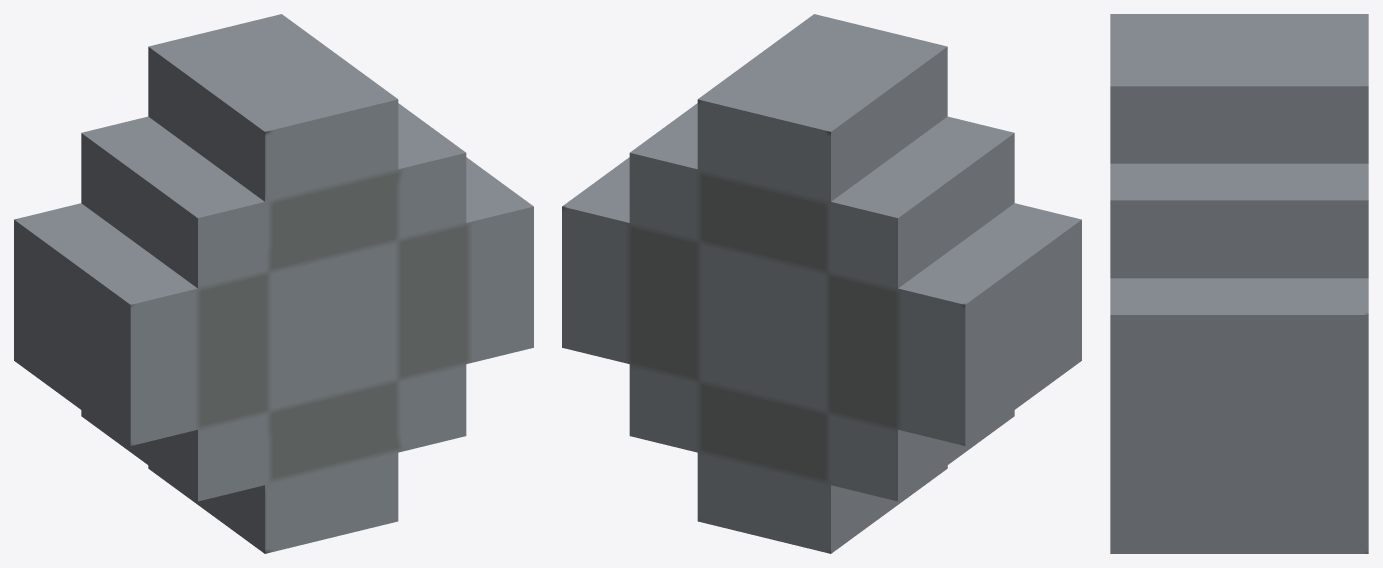
The model's file is gear_asset_.fbx.
3 views of the same model, side by side, from view 1: azimuth 30°, elevation 25°; view 2: azimuth 150°, elevation 25°; view 3: azimuth 270°, elevation 25° (orthographic). The views are drawn at different scales.
Parts seen in each view (by area): view 1: gear_asset_; view 2: gear_asset_; view 3: gear_asset_.
Part boxes in pixels (x1,y1,x2,y2): gear_asset_: [14, 14, 533, 553]; gear_asset_: [562, 14, 1081, 553]; gear_asset_: [1110, 14, 1368, 553].
Bounding box in the file's own units: 59.84 × 29.98 × 59.84.
